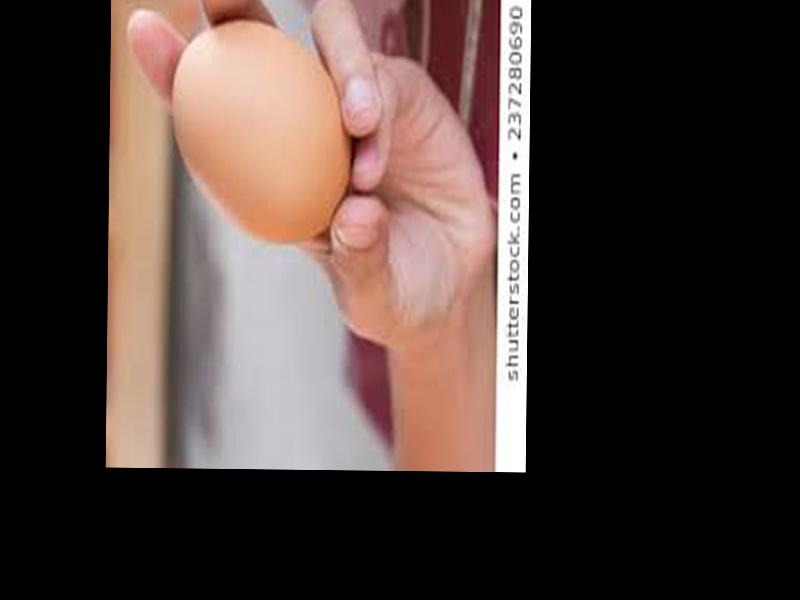Eggs: (171, 16, 351, 241)
